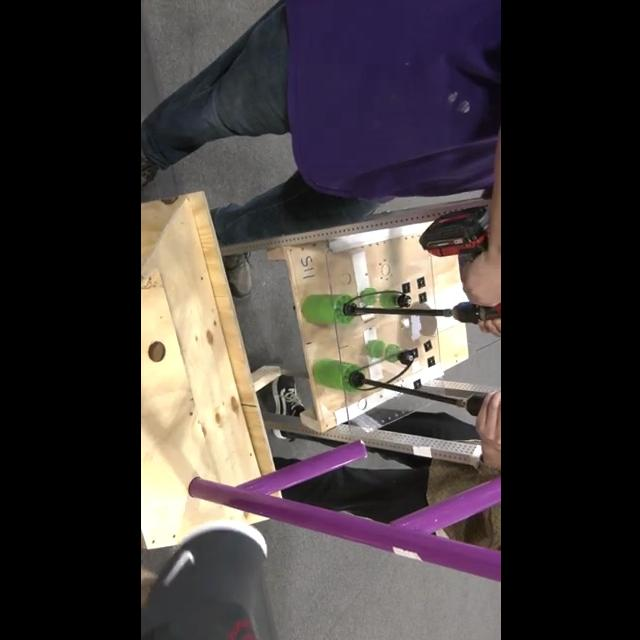CORAL: (413, 286, 467, 334)
